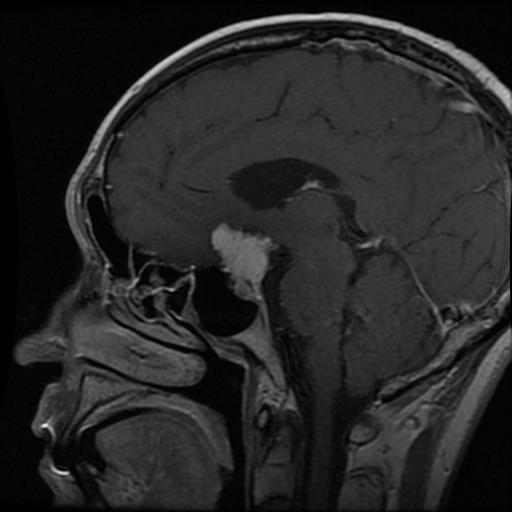meningioma: (211, 224, 275, 299)
